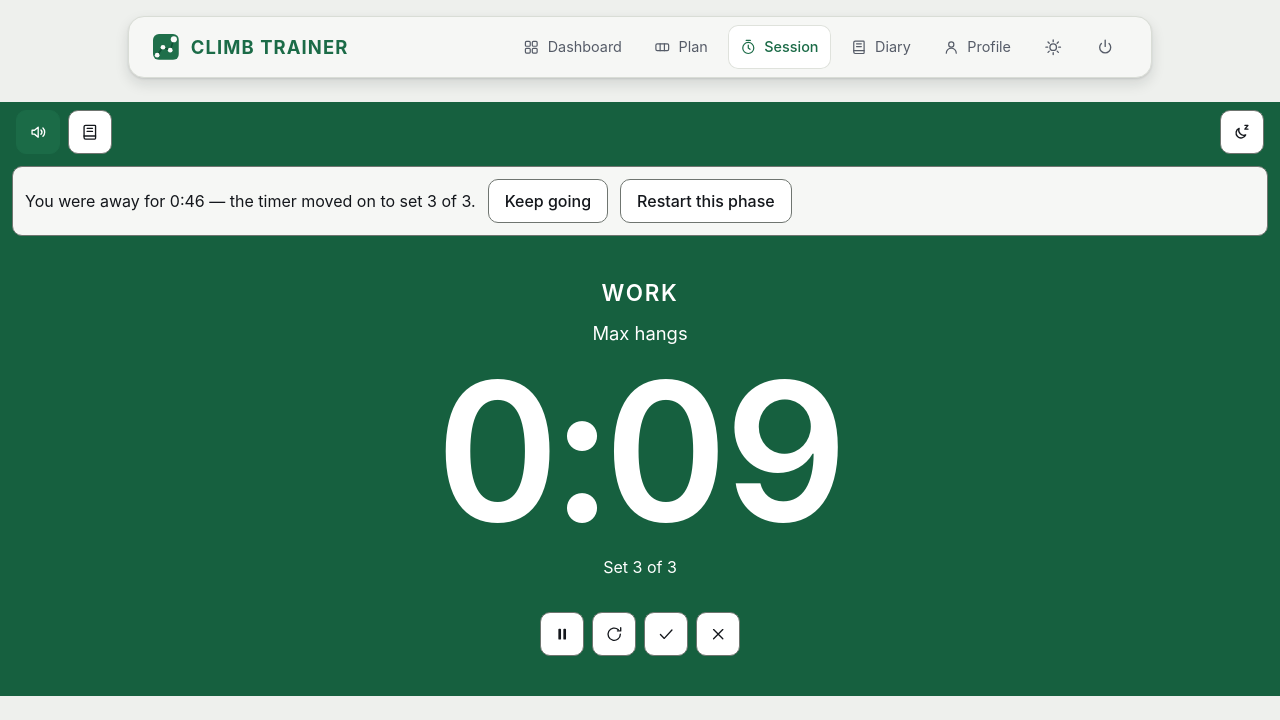
it: drops ONLY the sets logged after the tab went hidden when the phase is restarted
Click the button "Restart this phase": (706, 201) [620,179,792,223]
Wait 60 ms
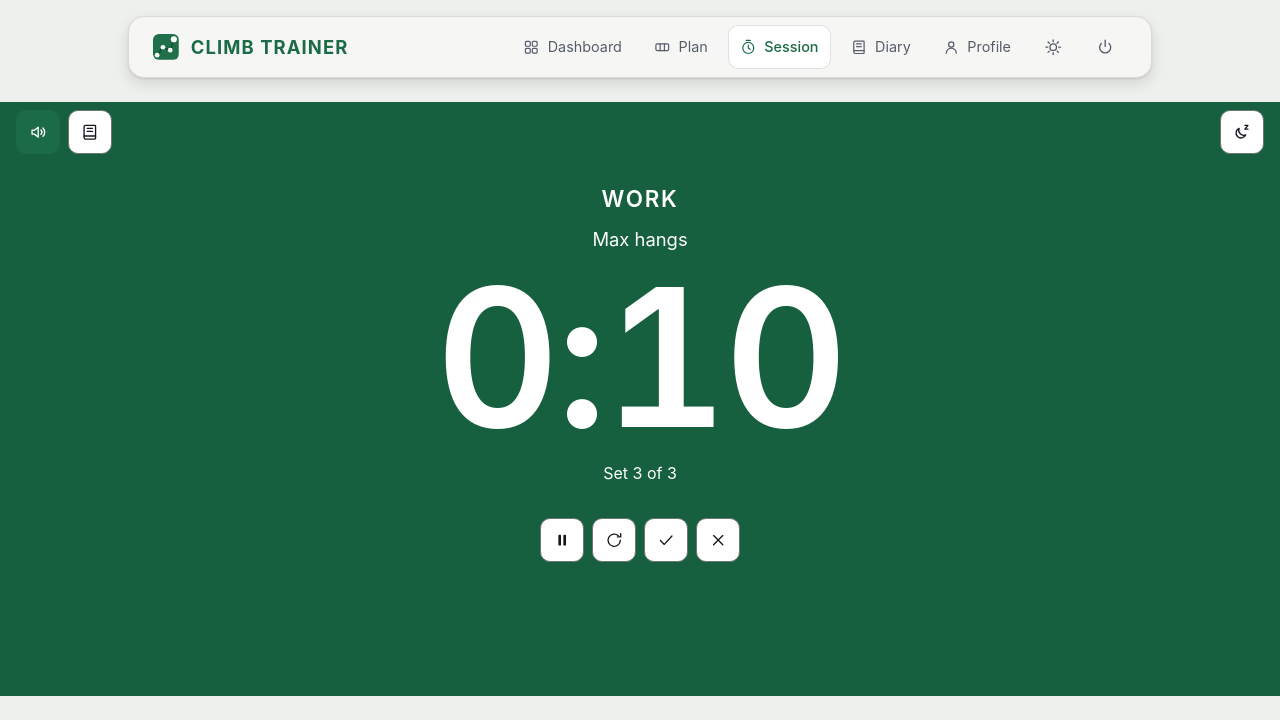
Now the message is gone
